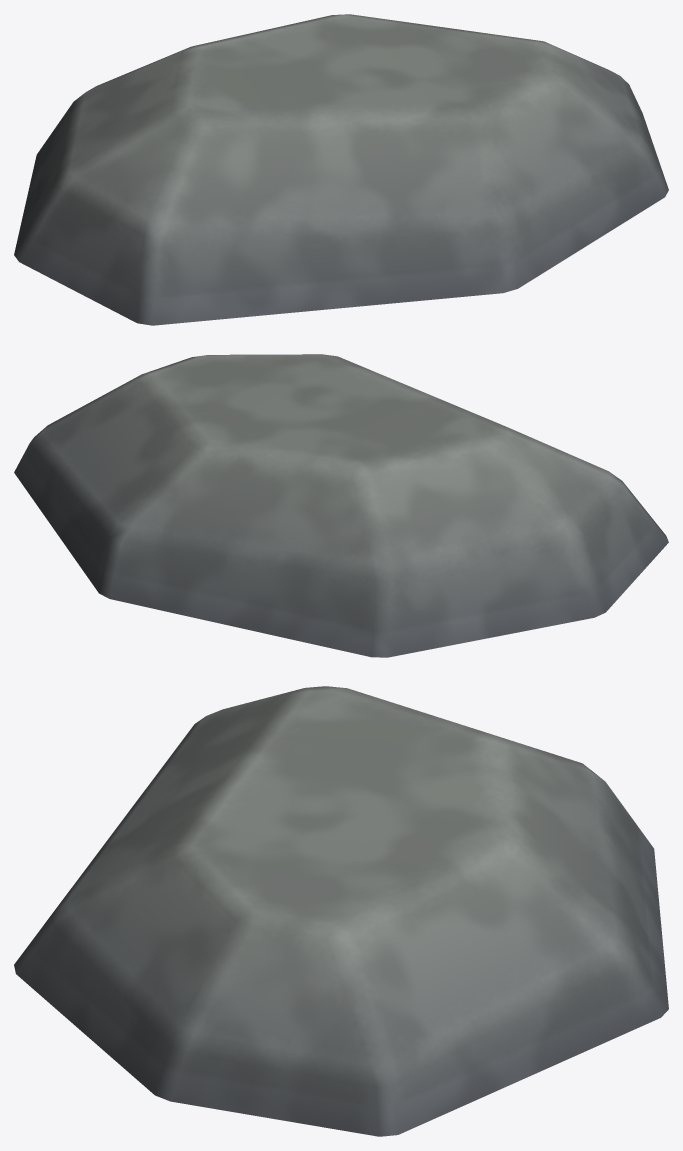
The model's file is pebble_1.glb.
3 renders of one model, top to bottom at view 1: azimuth 30°, elevation 25°; view 2: azimuth 150°, elevation 25°; view 3: azimuth 270°, elevation 25°, orthographic. The views are drawn at different scales.
Parts seen in each view (by area): view 1: pebble_1; view 2: pebble_1; view 3: pebble_1.
Part boxes in pixels (left/top/right/bottom): pebble_1: left=14, top=14, right=668, bottom=325; pebble_1: left=14, top=354, right=668, bottom=657; pebble_1: left=14, top=686, right=668, bottom=1136.
Size of the model in its own units: 0.12 by 0.025 by 0.09.
Materials: 1 (1 with a texture image).
